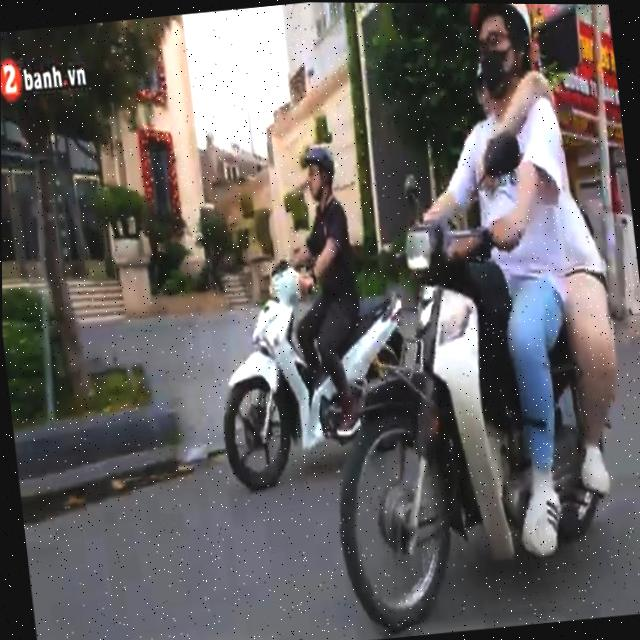motorcycle: (297, 123, 640, 640), (201, 242, 437, 493)
